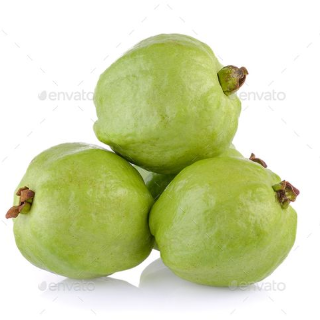oi: (96, 34, 246, 172), (149, 158, 299, 287), (13, 142, 154, 278)
